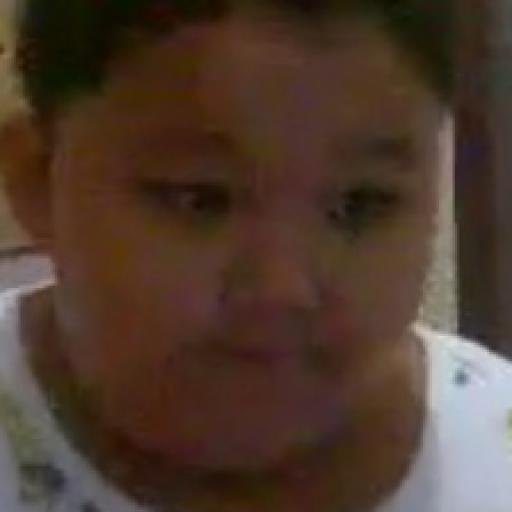Autism: (64, 0, 444, 479)
